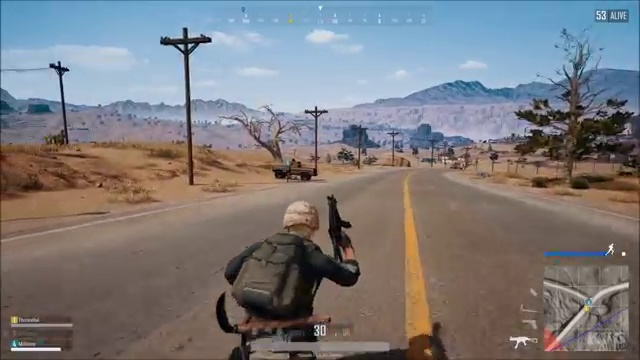Player: (243, 190, 394, 312)
